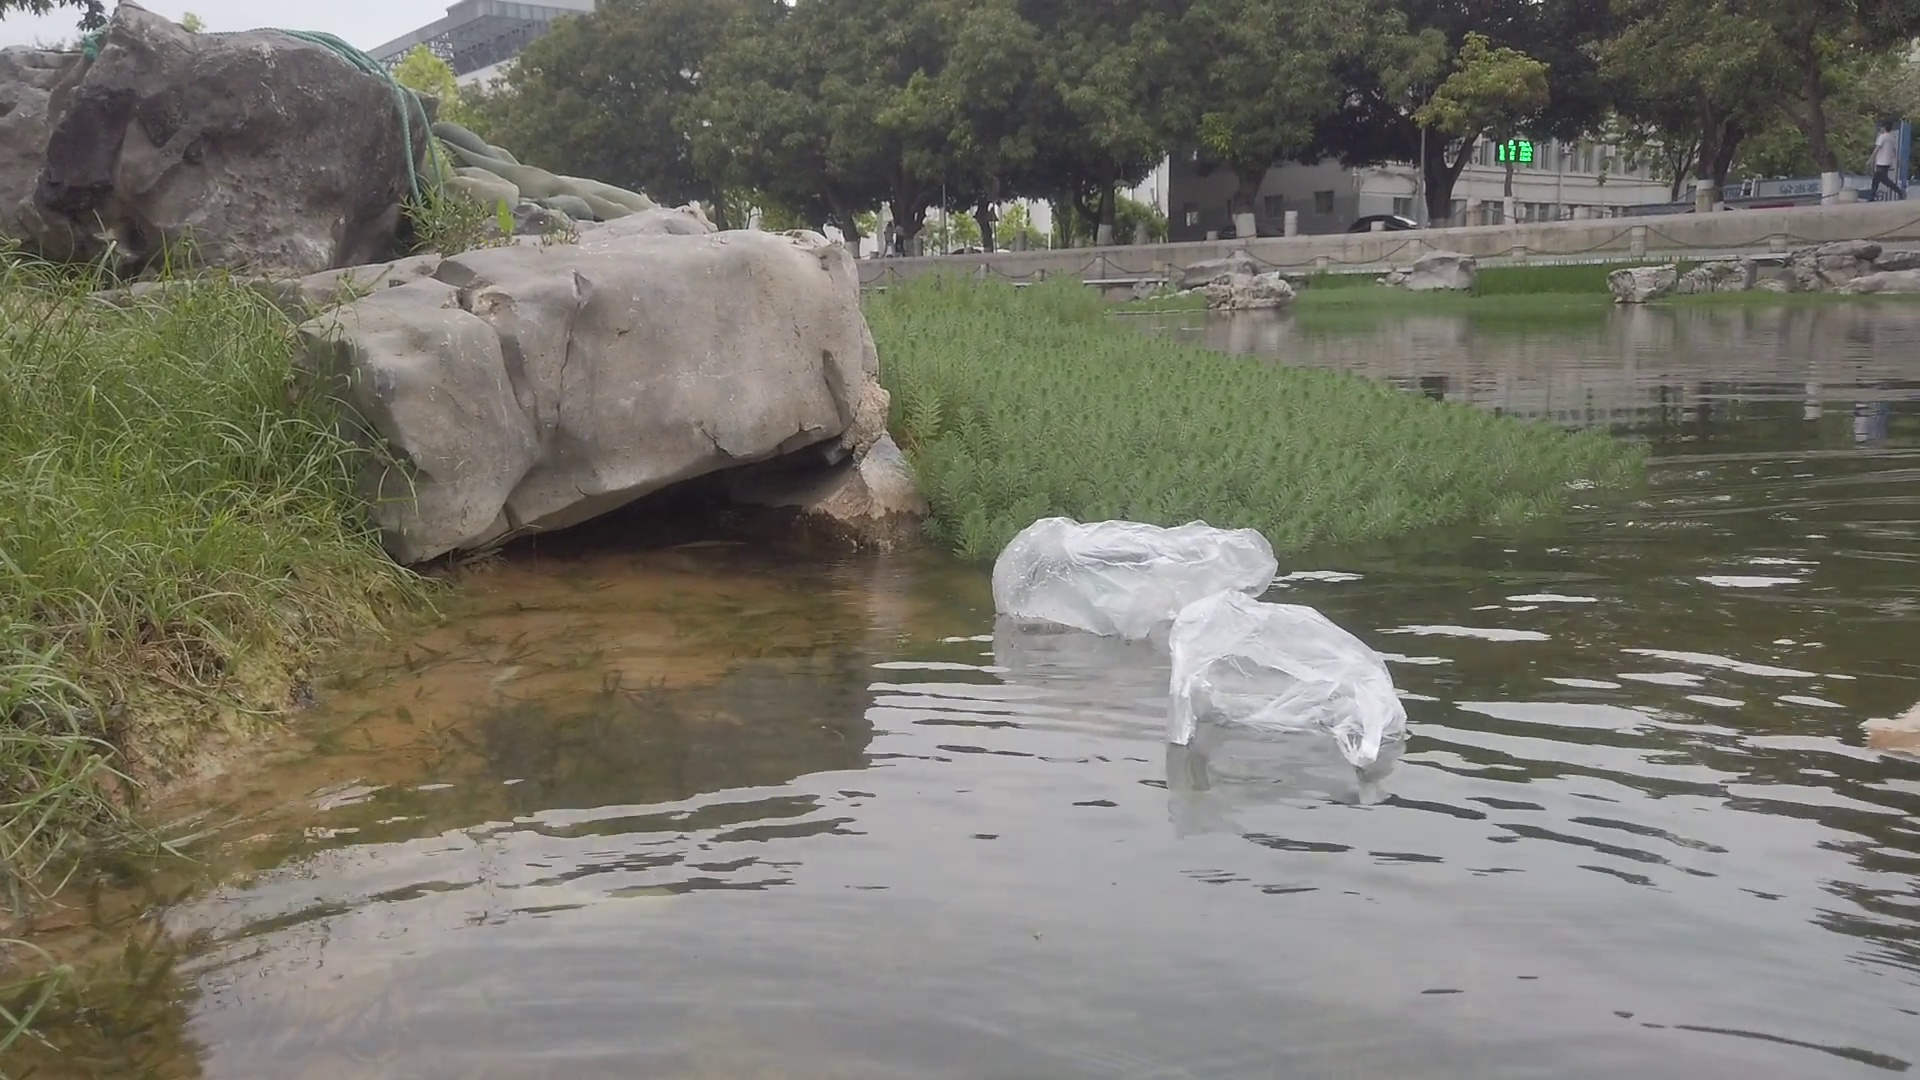paper: (1865, 680, 1920, 740)
plastic: (1172, 585, 1402, 750), (989, 512, 1282, 629)
